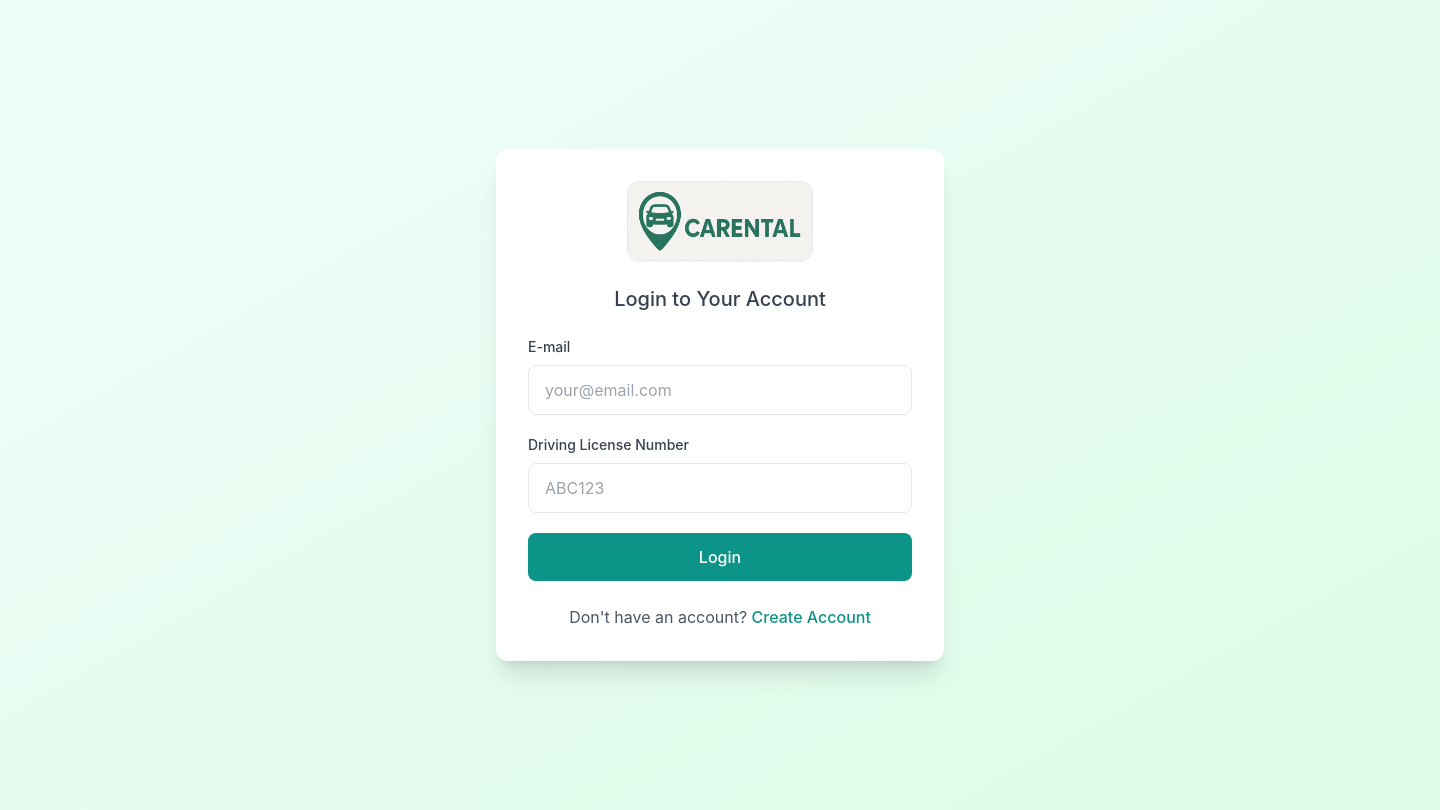
Test case: LoginPage › closes registration modal when "Cancel" is clicked
// Open modal
Click the button "Create Account" at (811, 617), box [752,605,871,629]
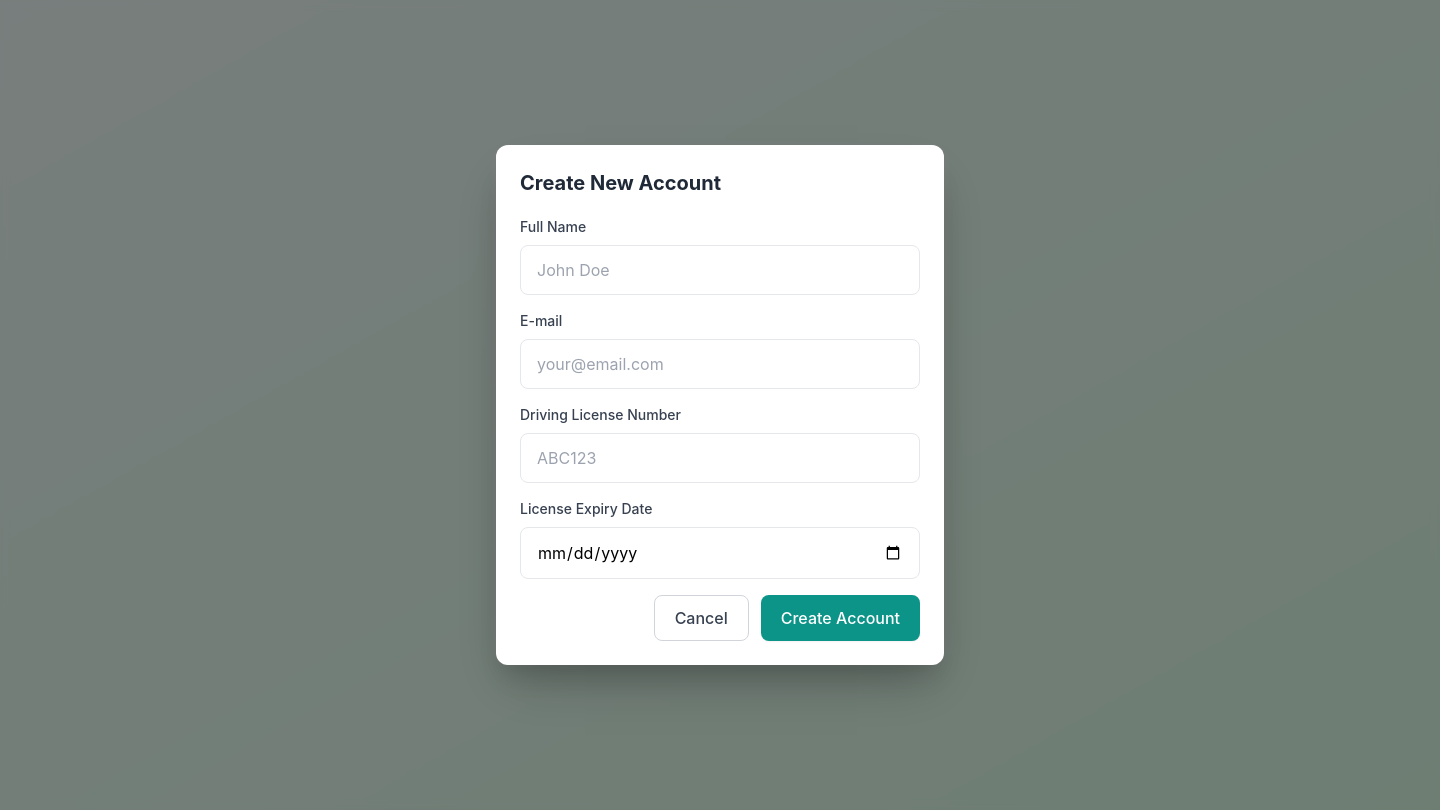
// Click cancel button
Click the button "Cancel" at (701, 618), box [654,595,749,641]
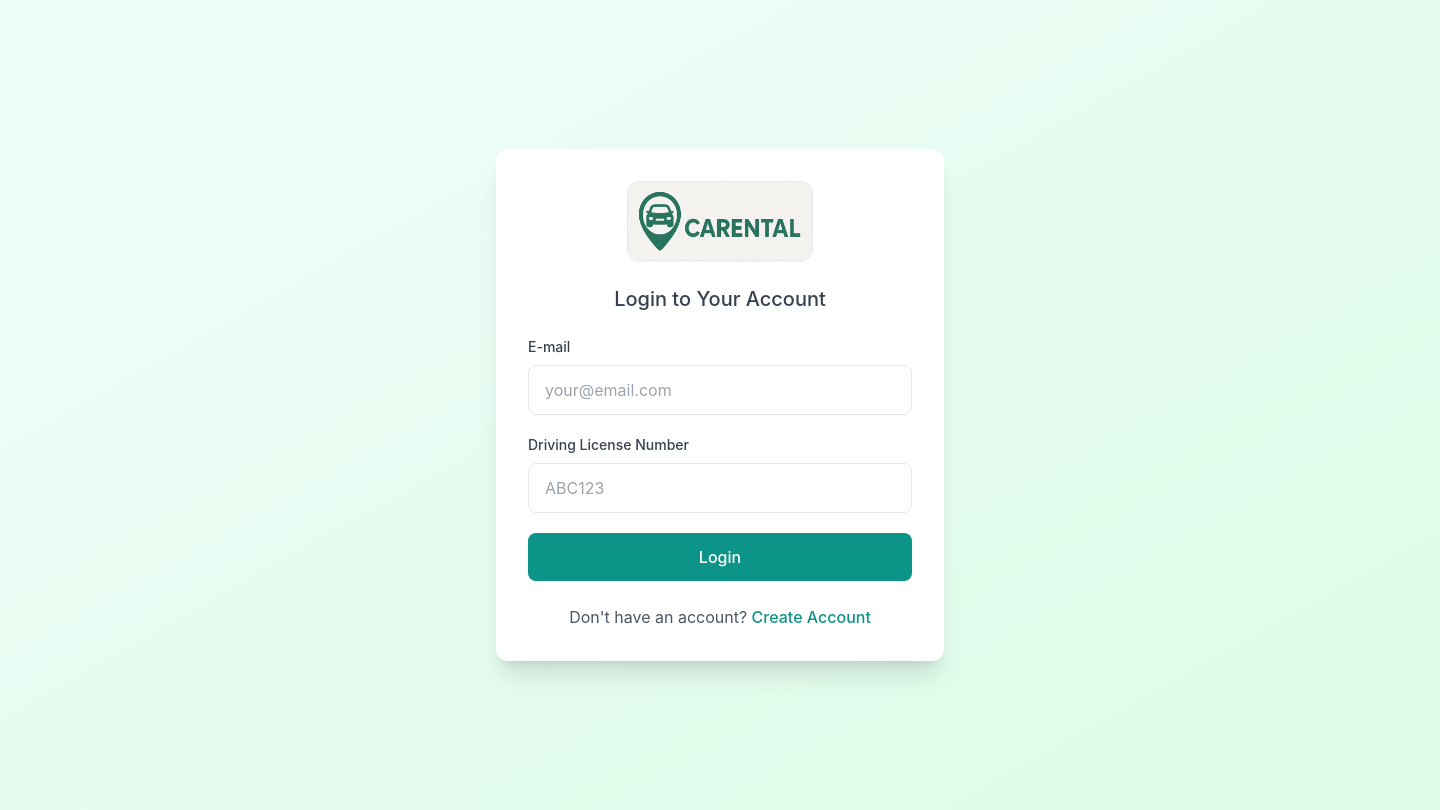
Expected: the heading "Create New Account" is gone
